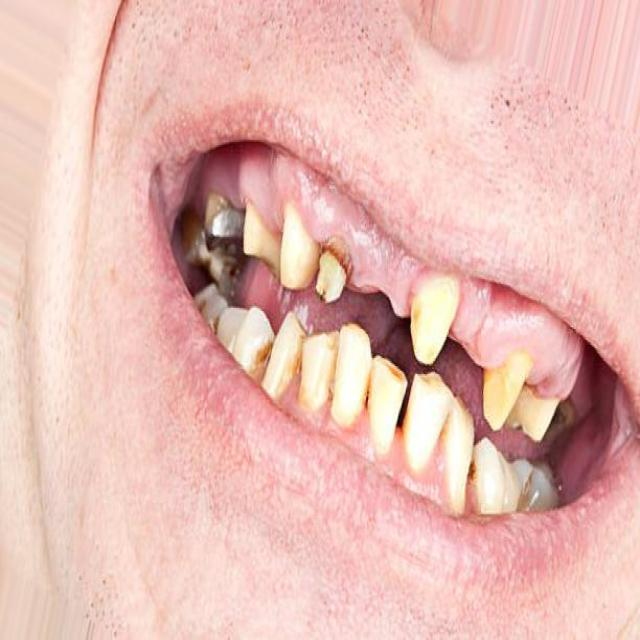caries: (314, 230, 356, 307)
